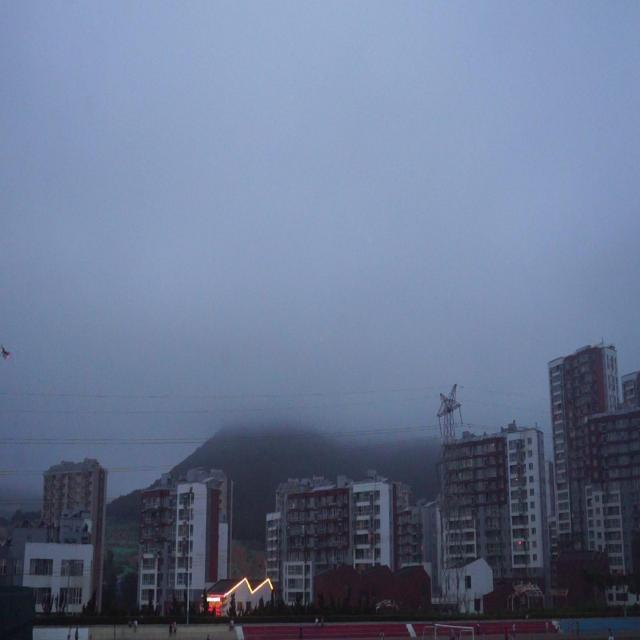UAV: (0, 343, 11, 359)
